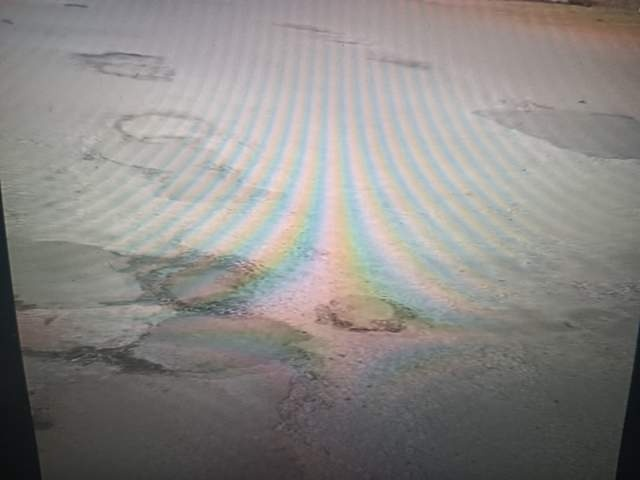pothole: (115, 403, 330, 480)
